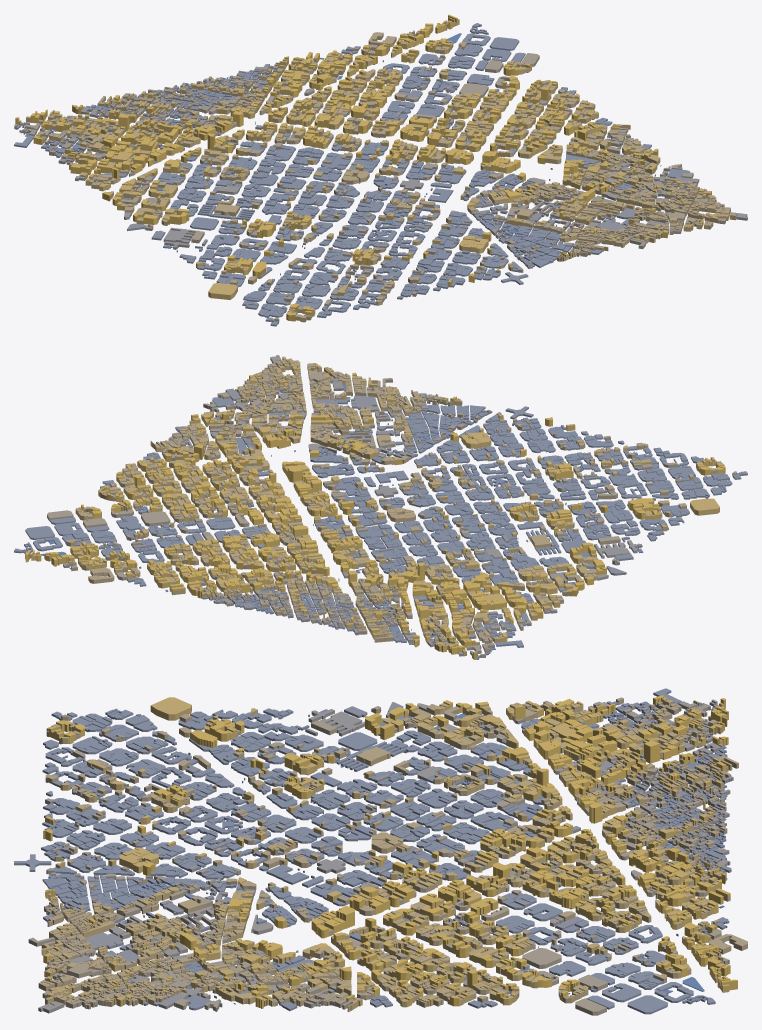
The model's file is buildings.glb.
3 views of the same model, one above another, from view 1: azimuth 30°, elevation 25°; view 2: azimuth 150°, elevation 25°; view 3: azimuth 270°, elevation 25° (orthographic). The views are drawn at different scales.
Visible parts, largest first — view 1: buildings; view 2: buildings; view 3: buildings.
Boxes of the visible parts, x1=… form: buildings: x1=14, y1=14, x2=747, y2=326; buildings: x1=14, y1=355, x2=747, y2=659; buildings: x1=14, y1=688, x2=747, y2=1015.
Size of the model in its own units: 2613 by 128 by 2618.
